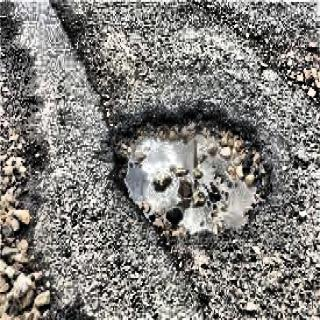pothole: (106, 99, 270, 245)
